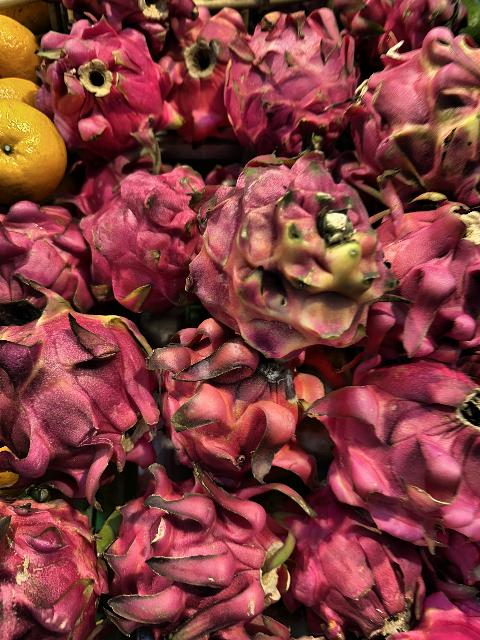buah-naga-belum-matang: (195, 158, 392, 352), (0, 278, 150, 470), (344, 35, 480, 192)
buah-naga-matang: (92, 464, 282, 640), (318, 338, 480, 536), (146, 312, 316, 484), (358, 170, 480, 348), (277, 488, 419, 640), (30, 17, 180, 156), (0, 470, 110, 640), (74, 159, 202, 299), (224, 3, 350, 141), (156, 2, 242, 128), (0, 197, 84, 315)
